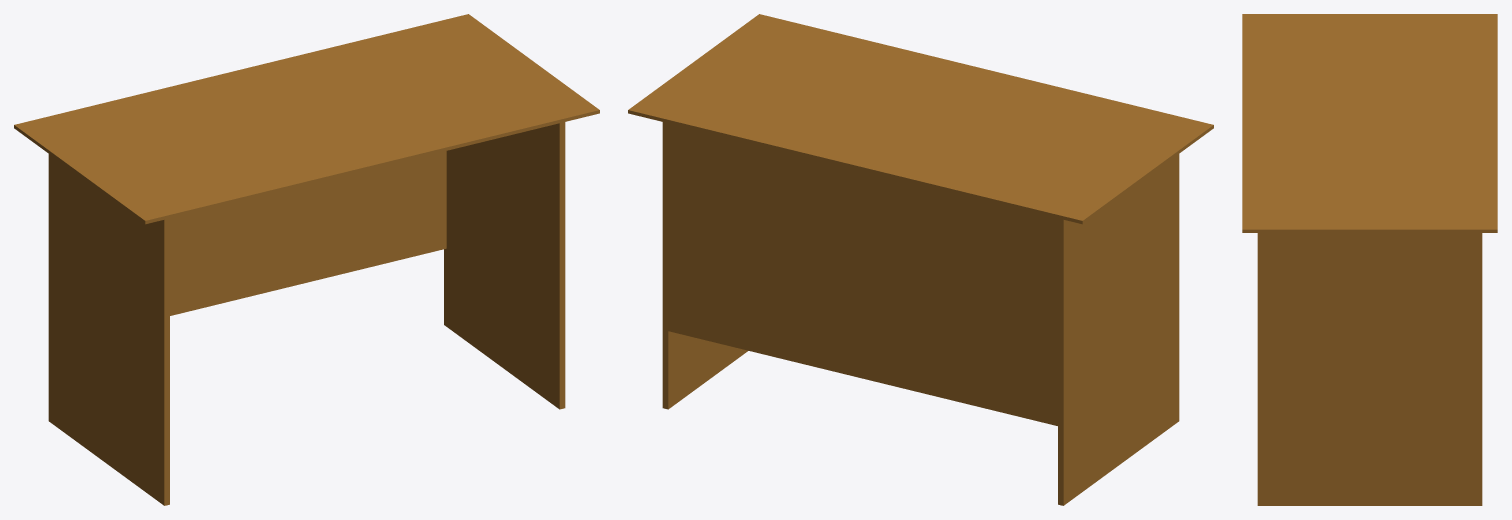
File: desk.fbx
3 views of the same model, side by side, from view 1: azimuth 30°, elevation 25°; view 2: azimuth 150°, elevation 25°; view 3: azimuth 270°, elevation 25° (orthographic). The views are drawn at different scales.
Visible parts, largest first — view 1: Cube.004; view 2: Cube.004; view 3: Cube.004.
Boxes of the visible parts, x1,y1,x2,y2 form: Cube.004: [14, 14, 599, 505]; Cube.004: [628, 14, 1213, 505]; Cube.004: [1242, 14, 1497, 505].
Bounding box in the file's own units: 120 × 75 × 60.
